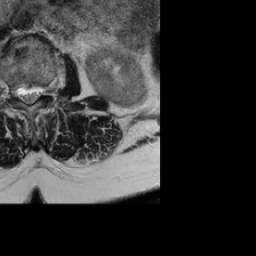CCS_normal: (25, 77, 33, 113)
LFS_normal: (41, 74, 49, 102)
LLS_normal: (33, 77, 41, 105)
RFS_normal: (9, 78, 17, 104)
RLS_normal: (17, 78, 25, 108)
